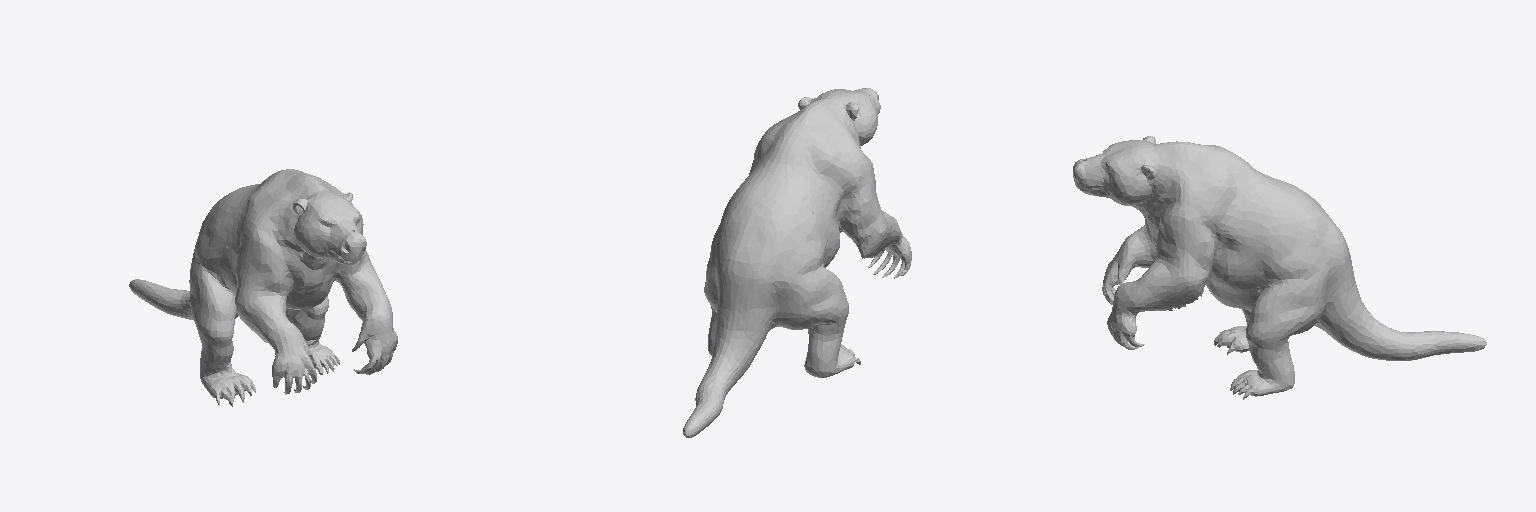
The model's file is Giant_Ground_Sloth_0418191225_texture.obj.
The picture shows the model from 3 angles: view 1: azimuth 30°, elevation 25°; view 2: azimuth 150°, elevation 25°; view 3: azimuth 270°, elevation 25°; orthographic projection.
Parts seen in each view (by area): view 1: Giant_Ground_Sloth_[number redacted]_texture; view 2: Giant_Ground_Sloth_[number redacted]_texture; view 3: Giant_Ground_Sloth_[number redacted]_texture.
Part boxes in pixels (x1,y1,x2,y2): Giant_Ground_Sloth_[number redacted]_texture: (129, 169, 397, 406); Giant_Ground_Sloth_[number redacted]_texture: (683, 88, 911, 437); Giant_Ground_Sloth_[number redacted]_texture: (1073, 136, 1486, 399).
Size of the model in its own units: 0.7553 by 1.22 by 2.